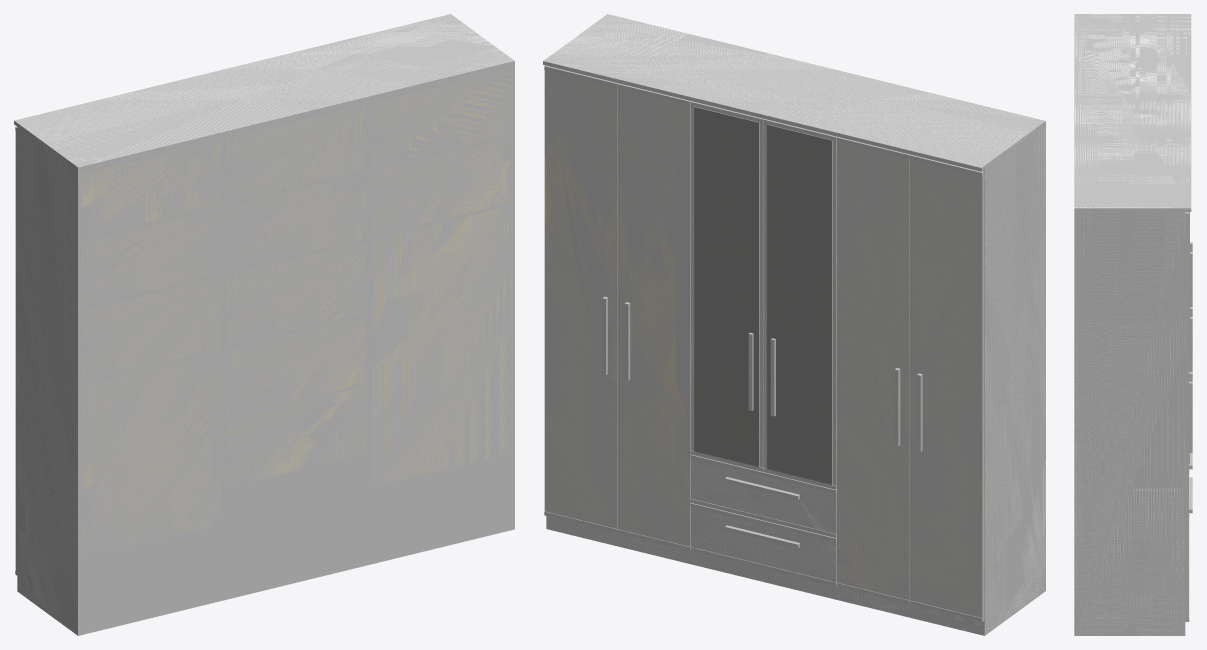
The picture shows the model from 3 angles, left to right: view 1: azimuth 30°, elevation 25°; view 2: azimuth 150°, elevation 25°; view 3: azimuth 270°, elevation 25°; orthographic projection. The views are drawn at different scales.
Visible parts, largest first — view 1: mesh1_mesh1-geometry; view 2: mesh1_mesh1-geometry, mesh3_mesh3-geometry, mesh2_mesh2-geometry; view 3: mesh1_mesh1-geometry, mesh2_mesh2-geometry.
Boxes of the visible parts, x1,y1,x2,y2 form: mesh1_mesh1-geometry: (14,14,514,635); mesh1_mesh1-geometry: (543,14,1045,635); mesh3_mesh3-geometry: (763,119,837,489); mesh2_mesh2-geometry: (690,101,763,471); mesh1_mesh1-geometry: (1074,14,1192,635); mesh2_mesh2-geometry: (1189,212,1192,468).
Size of the model in its own units: 0.6873 by 0.7045 by 0.177.
